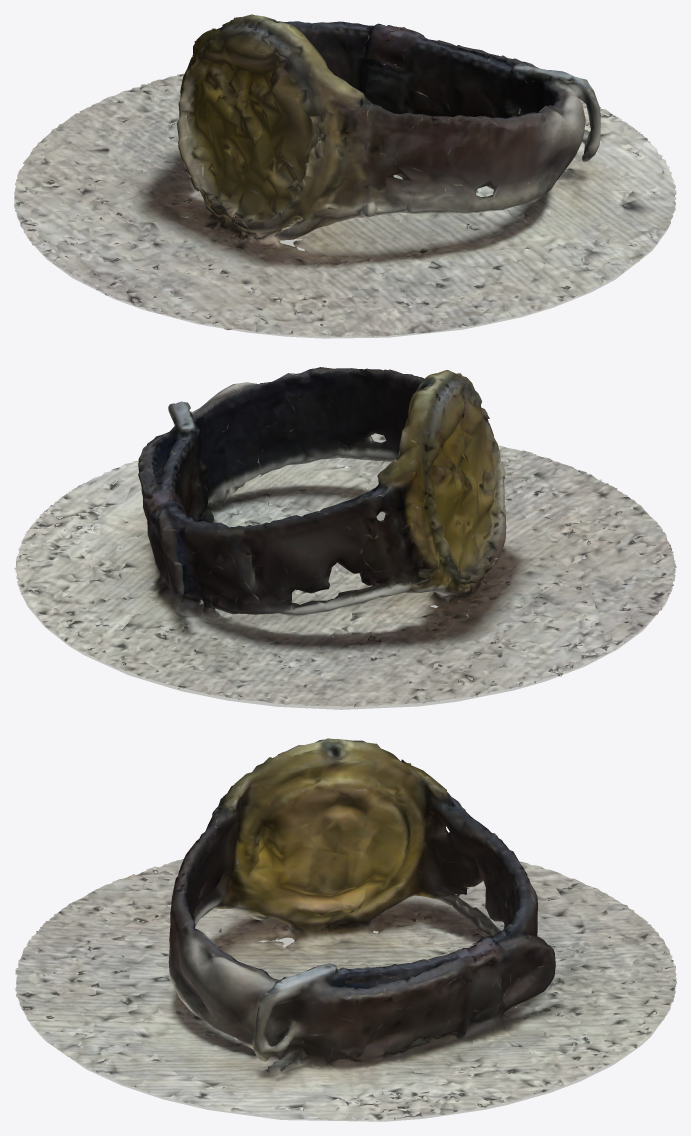
The model's file is reloj.glb.
3 views of the same model, one above another, from view 1: azimuth 30°, elevation 25°; view 2: azimuth 150°, elevation 25°; view 3: azimuth 270°, elevation 25° (orthographic).
Parts seen in each view (by area): view 1: objeto, base_rellenada; view 2: objeto, base_rellenada; view 3: objeto, base_rellenada.
Part boxes in pixels (x1,y1,x2,y2): objeto: [14, 14, 676, 337]; base_rellenada: [14, 200, 674, 338]; objeto: [14, 367, 676, 707]; base_rellenada: [18, 474, 672, 709]; objeto: [14, 738, 676, 1120]; base_rellenada: [16, 872, 675, 1121].
Size of the model in its own units: 0.11 by 0.0383 by 0.1101.
2 materials, 1 textured.
